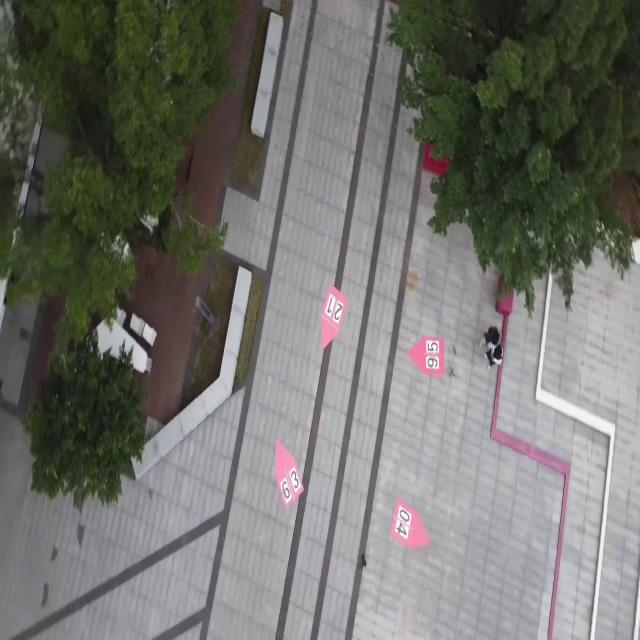-sign-: (390, 495, 429, 550), (274, 438, 302, 509), (320, 284, 347, 349), (408, 335, 446, 377)
